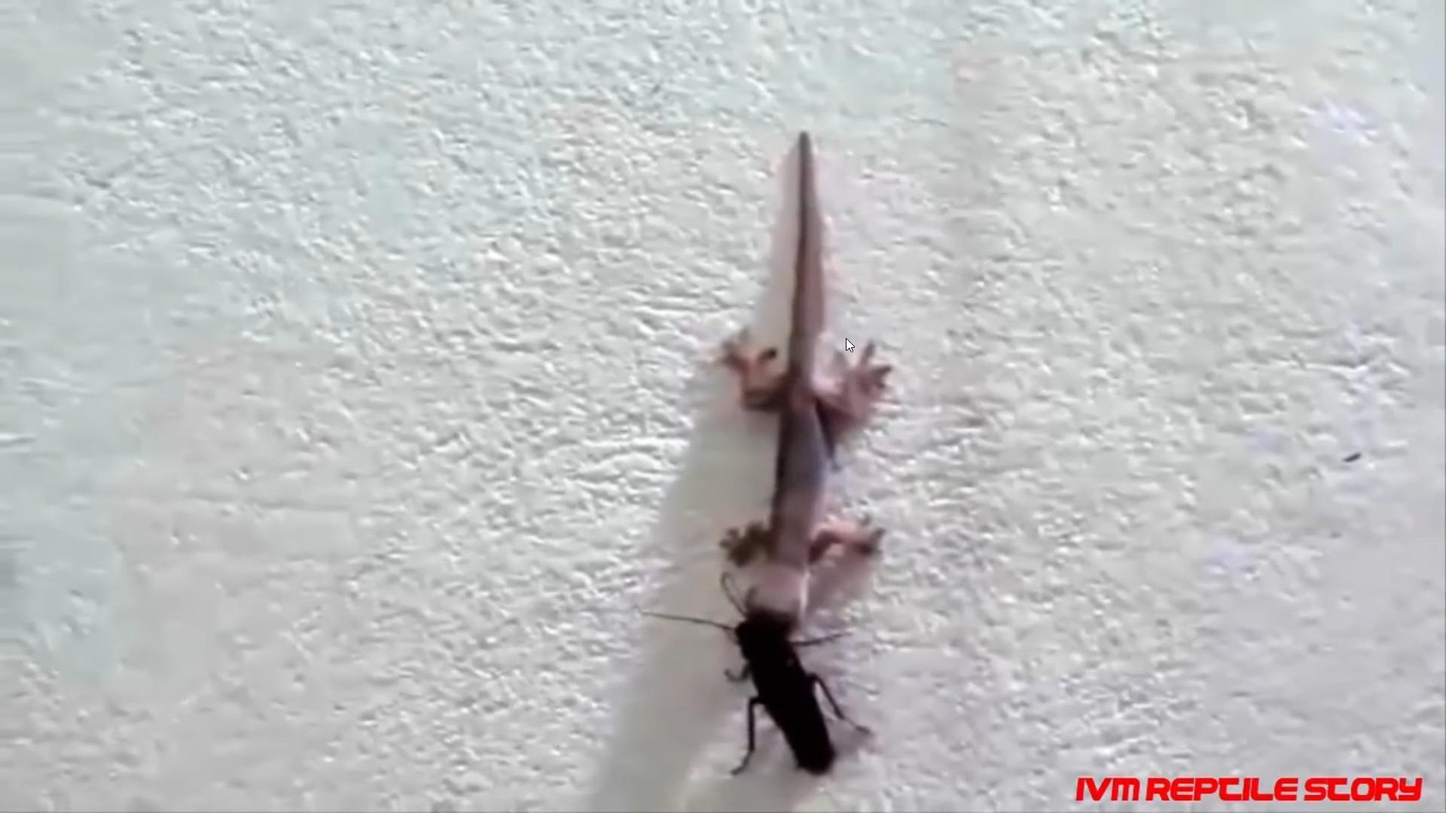cockroach: (721, 618, 859, 790)
lizard: (701, 179, 896, 629)
